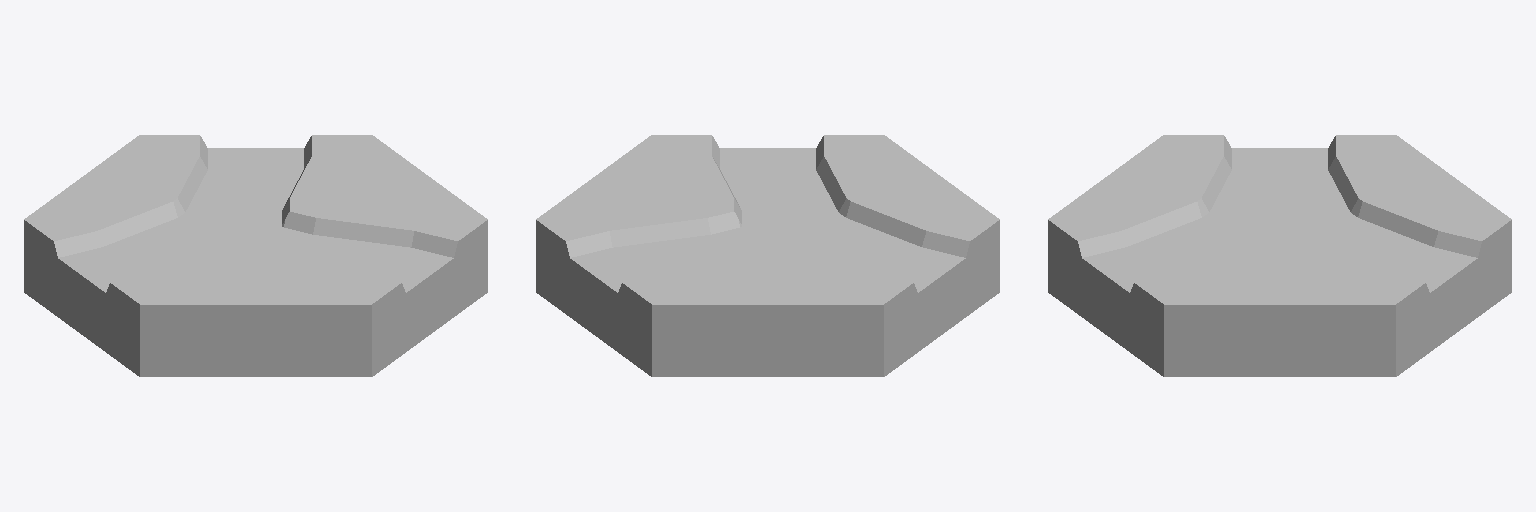
Rendered from river_intersectionF.obj.
The picture shows the model from 3 angles: view 1: azimuth 30°, elevation 25°; view 2: azimuth 150°, elevation 25°; view 3: azimuth 270°, elevation 25°; orthographic projection.
Parts seen in each view (by area): view 1: river_intersectionF; view 2: river_intersectionF; view 3: river_intersectionF.
Part boxes in pixels (x1,y1,x2,y2): river_intersectionF: (24, 135, 487, 376); river_intersectionF: (536, 135, 999, 376); river_intersectionF: (1048, 135, 1511, 376).
Bounding box in the file's own units: 1 × 0.2 × 1.15.